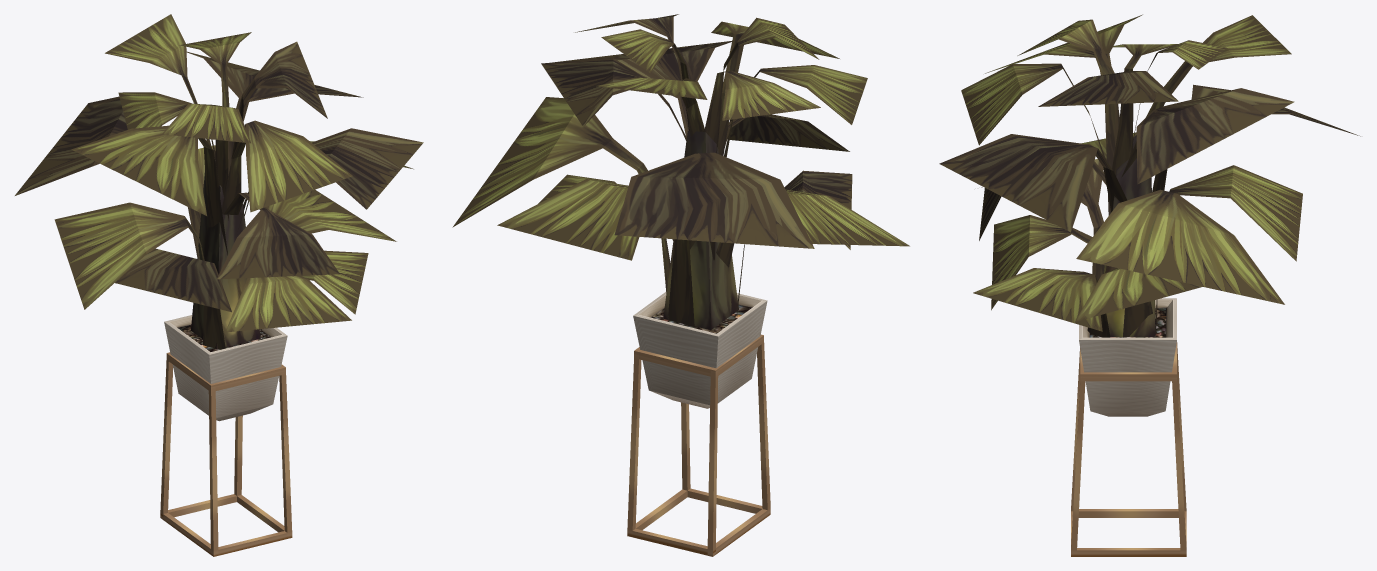
File: Plant.fbx
3 renders of one model, left to right at view 1: azimuth 30°, elevation 25°; view 2: azimuth 150°, elevation 25°; view 3: azimuth 270°, elevation 25°, orthographic. The views are drawn at different scales.
Parts seen in each view (by area): view 1: plant; view 2: plant; view 3: plant.
Part boxes in pixels (box(x1,y1,x2,y2)): plant: box(15, 14, 423, 556); plant: box(452, 14, 909, 556); plant: box(939, 14, 1360, 556).
Bounding box in the file's own units: 15.14 × 19.73 × 15.1.
Materials: 1 (1 with a texture image).
